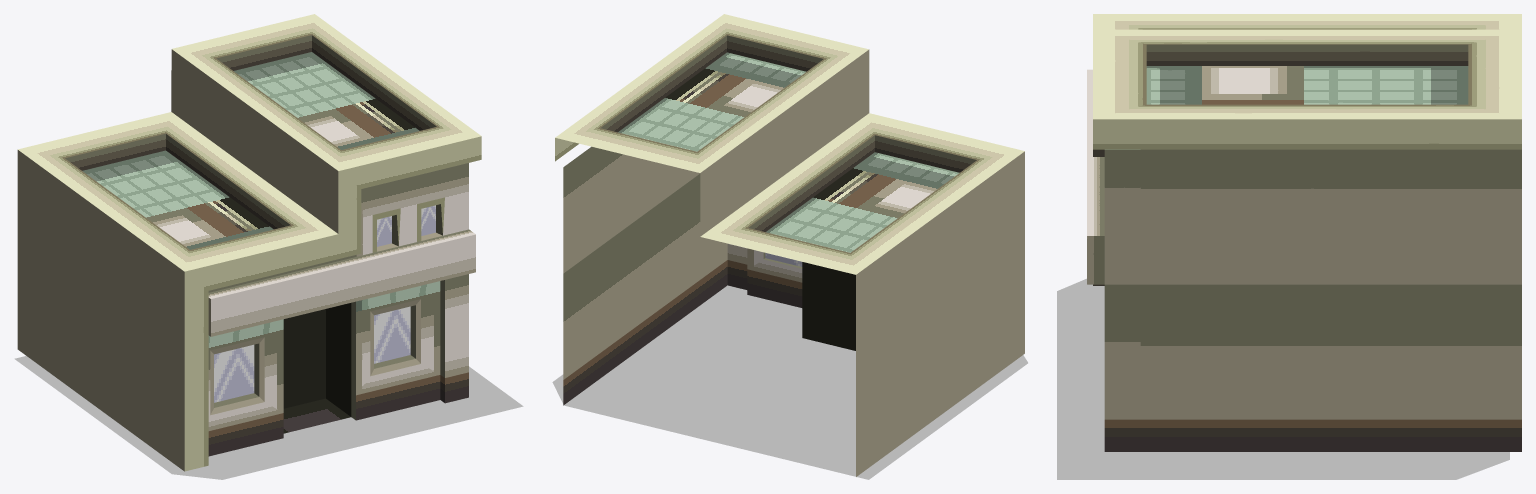
Rendered from rr_condominium_0.dae.
3 views of the same model, side by side, from view 1: azimuth 30°, elevation 25°; view 2: azimuth 150°, elevation 25°; view 3: azimuth 270°, elevation 25° (orthographic). The views are drawn at different scales.
Visible parts, largest first — view 1: rr_condominium_0; view 2: rr_condominium_0; view 3: rr_condominium_0.
Boxes of the visible parts, left/top/right/bottom form: rr_condominium_0: left=14, top=14, right=523, bottom=479; rr_condominium_0: left=552, top=14, right=1027, bottom=479; rr_condominium_0: left=1057, top=14, right=1521, bottom=479.
Bounding box in the file's own units: 83 × 63.5 × 78.
